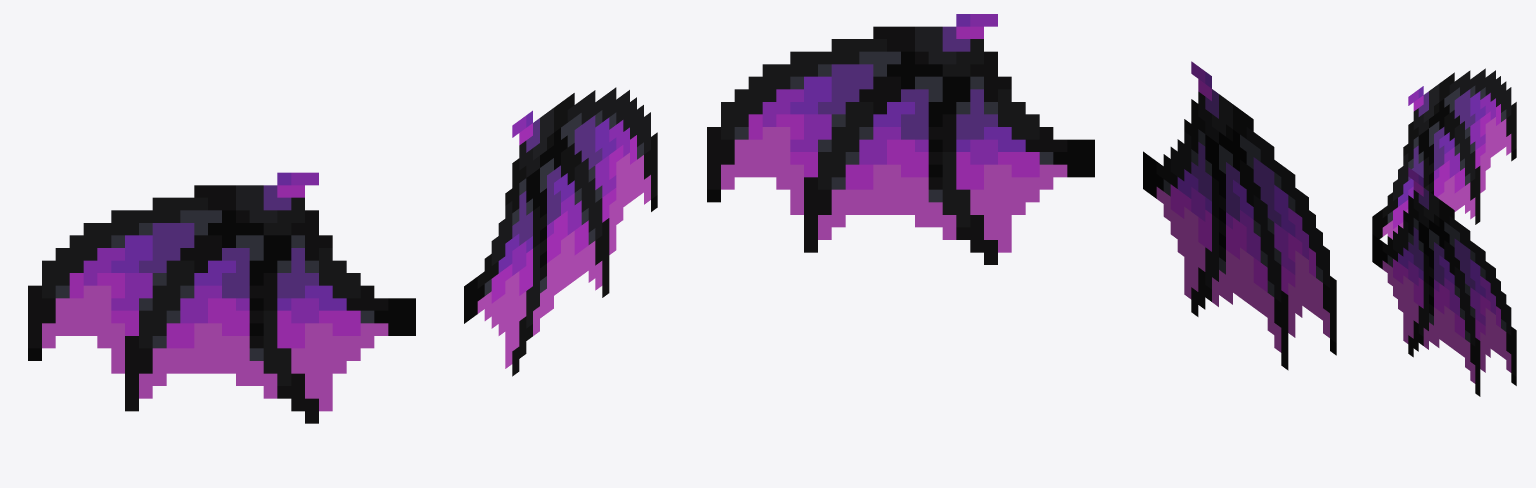
Rendered from sl_ender_wings.glb.
3 views of the same model, side by side, from view 1: azimuth 30°, elevation 25°; view 2: azimuth 150°, elevation 25°; view 3: azimuth 270°, elevation 25° (orthographic). The views are drawn at different scales.
Visible parts, largest first — view 1: bb_ender_wings; view 2: bb_ender_wings; view 3: bb_ender_wings.
Part boxes in pixels (left/top/right/bottom): bb_ender_wings: left=28, top=87, right=657, bottom=423; bb_ender_wings: left=707, top=14, right=1336, bottom=370; bb_ender_wings: left=1372, top=68, right=1516, bottom=396.
Size of the model in its own units: 3.39 by 1.5 by 0.9062.
Materials: 1 (1 with a texture image).
